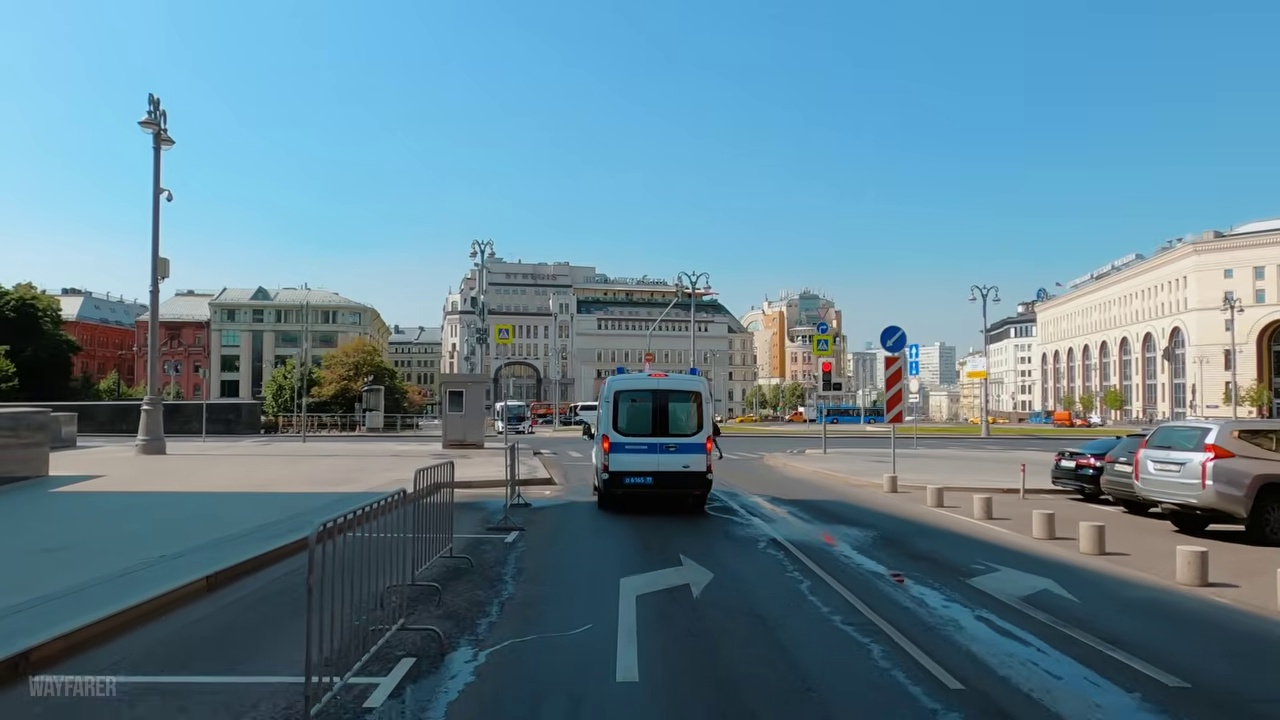apagada: (132, 110, 174, 151)
